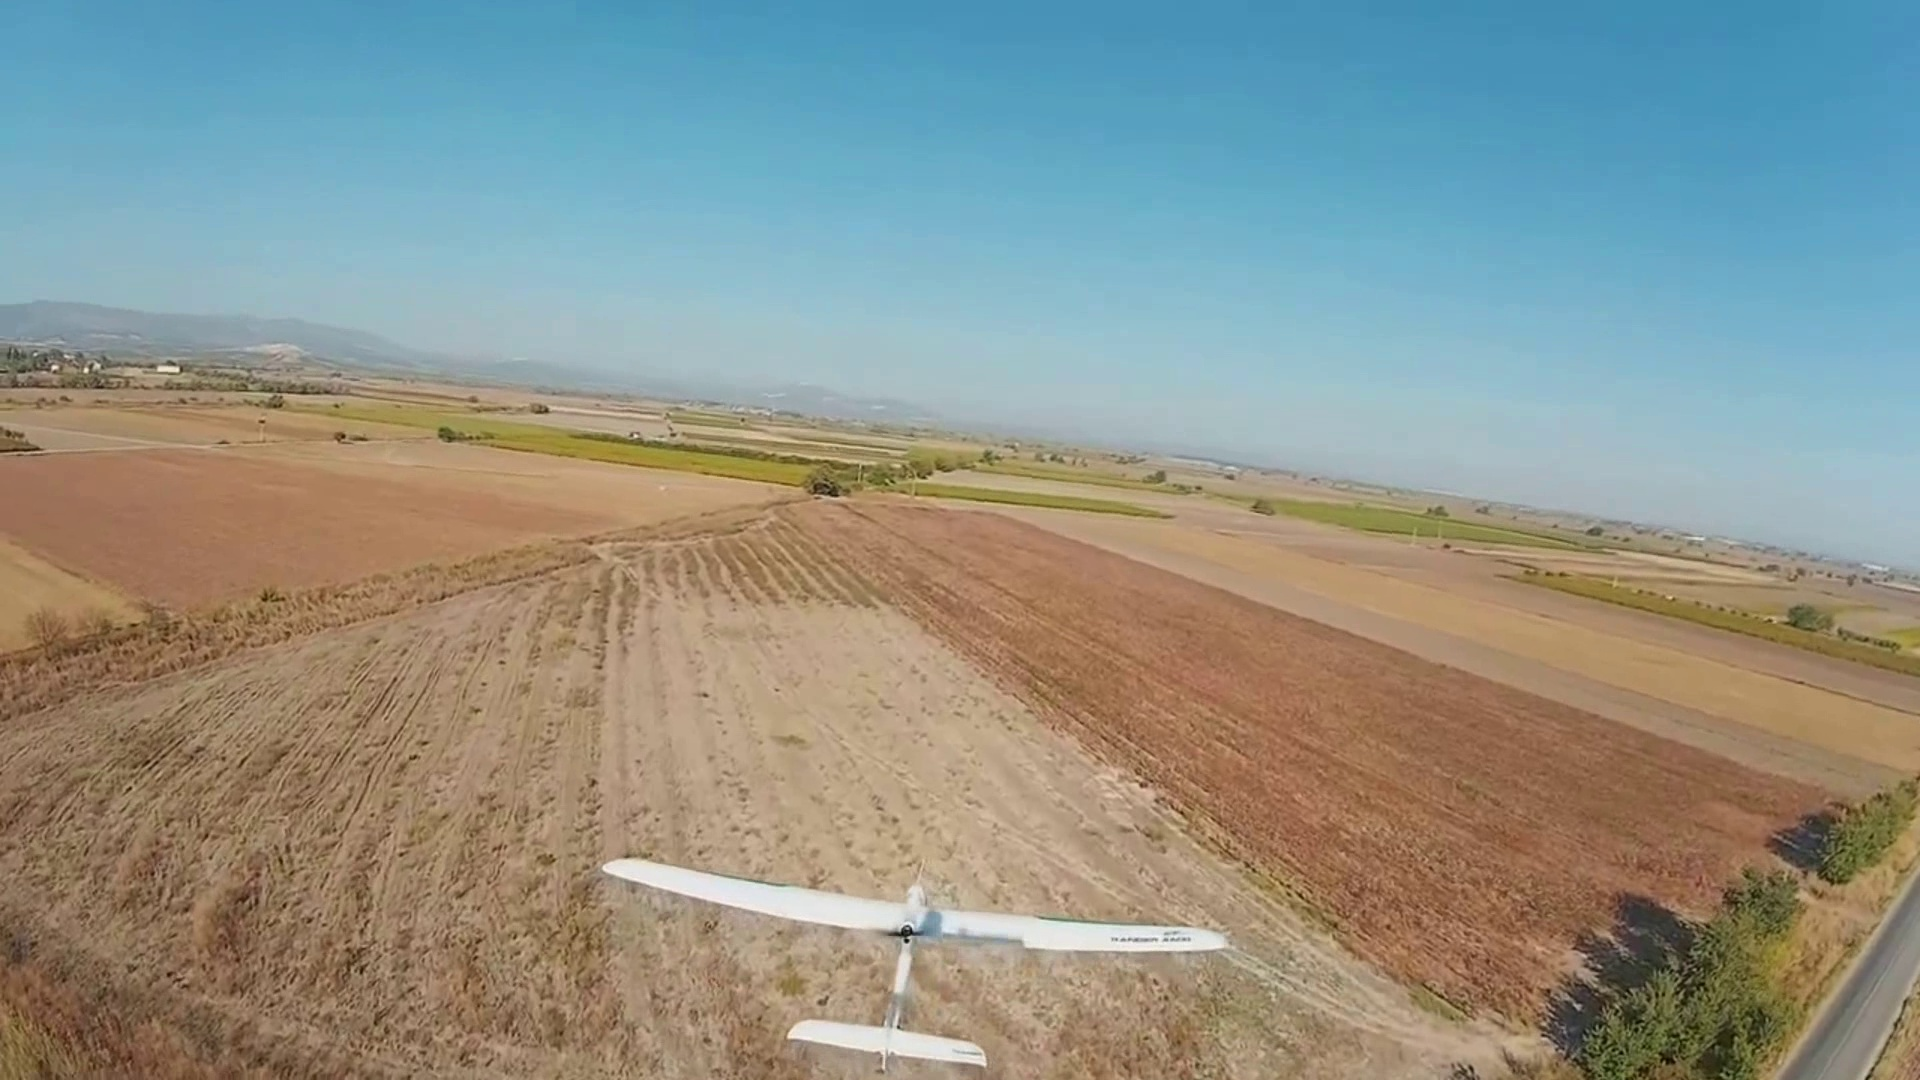airplane: (593, 857, 1228, 1048)
